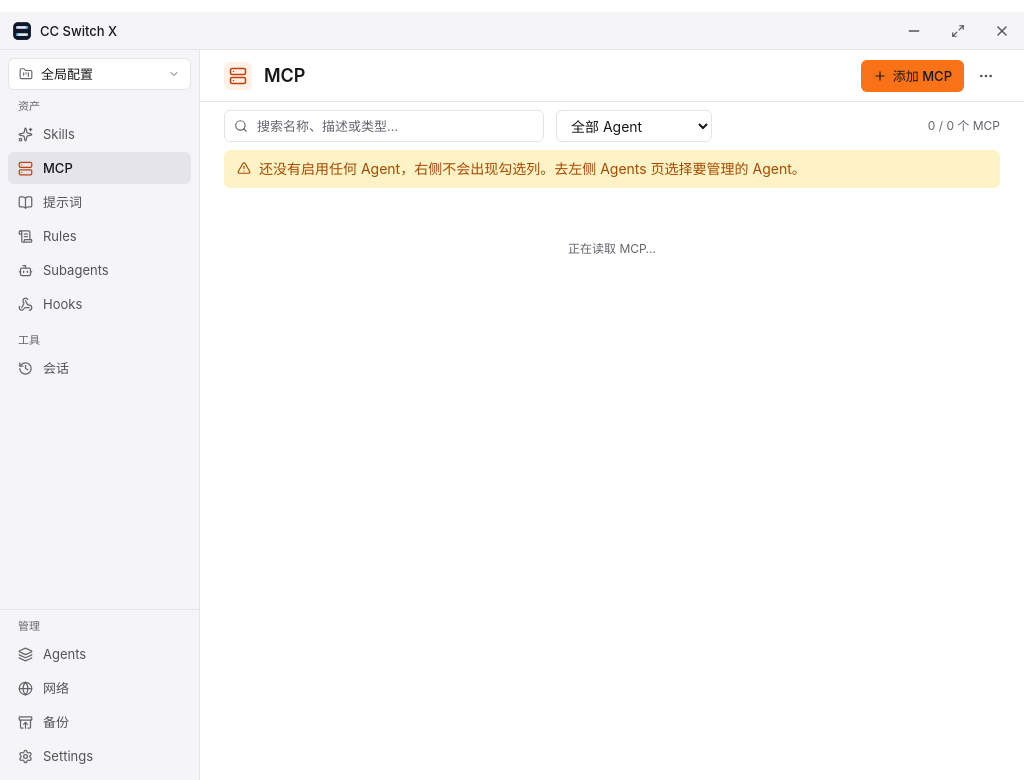
Test: 选中项目即切到项目范围，其他资产不可点
The image size is (1036, 780).
Click the button with aria-label "配置范围：".
click(100, 74)  # box [8,58,191,90]
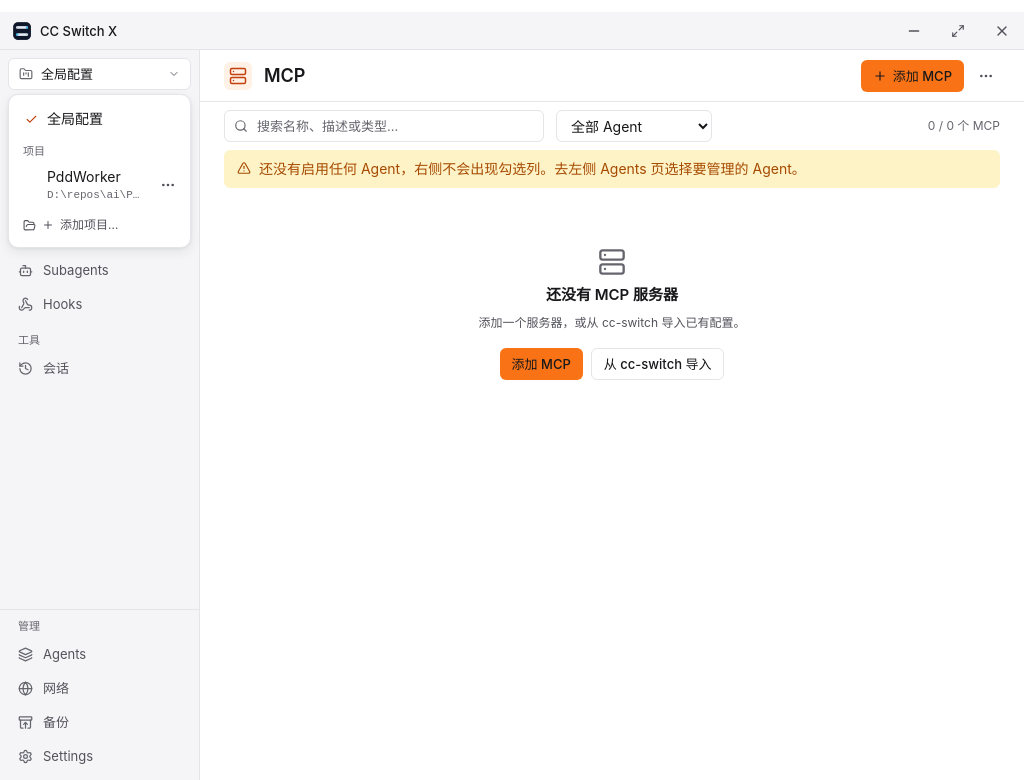
Click the button "PddWorker D:\\repos\\ai\\PddWorker".
click(84, 185)  # box [17,163,152,207]
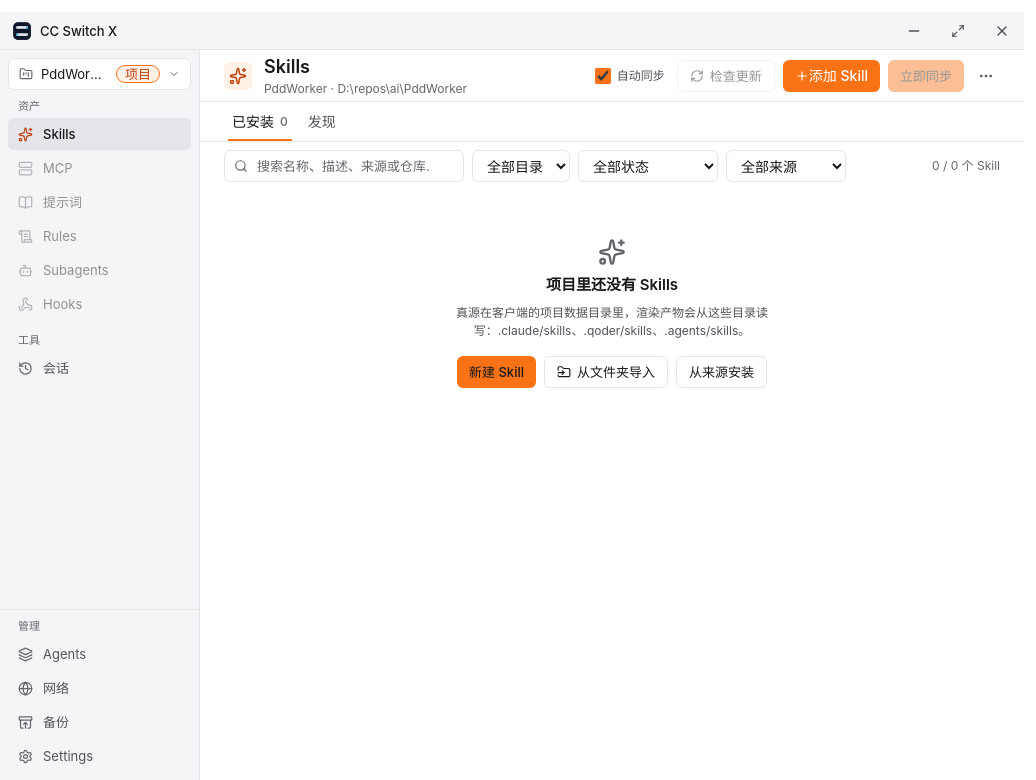
Check: the button "Skills" is enabled, box [8,118,191,150]
Check: the button "MCP" is disabled, box [8,152,191,184]
